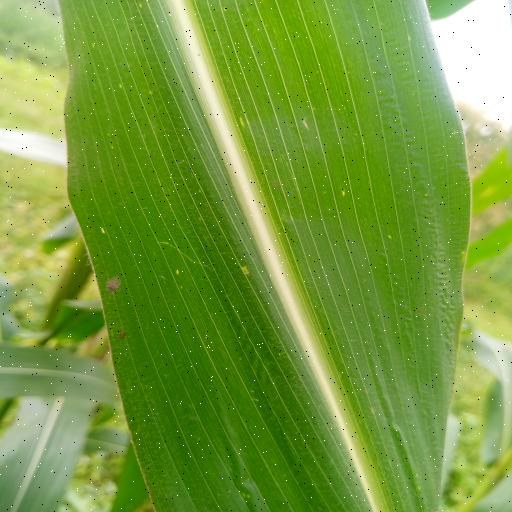Corn_Chlorotic_Leaf_Spot: (52, 0, 479, 512)
